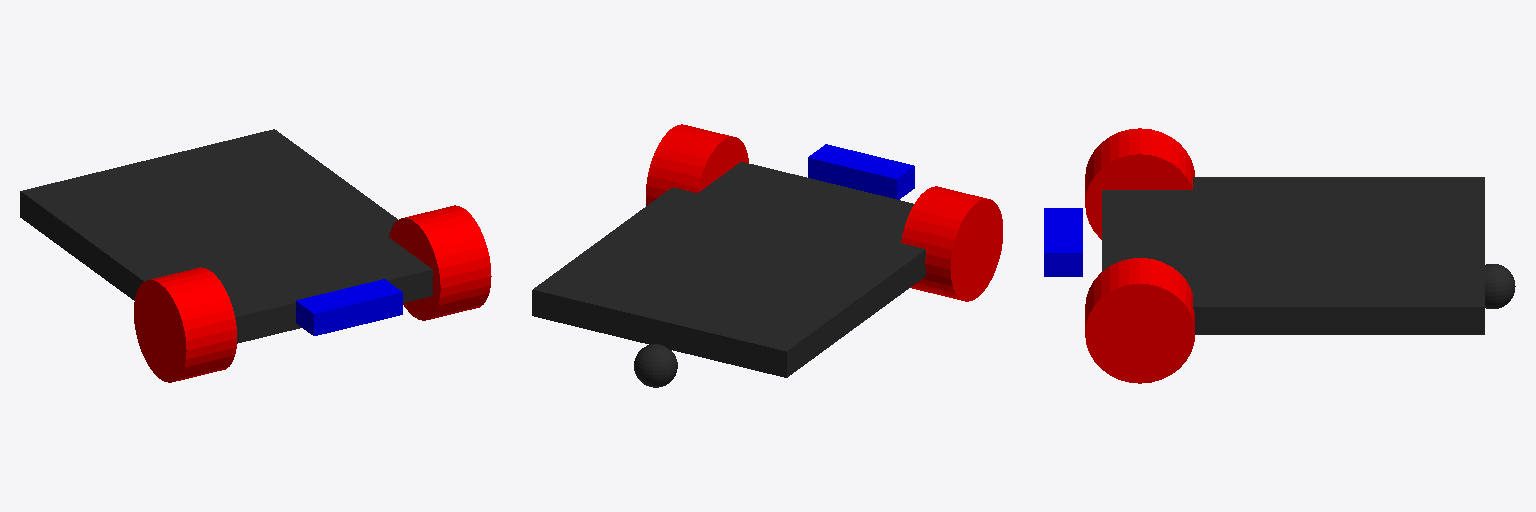
robot.urdf — wheel_robot_simple:
<robot name="wheel_robot_simple">
  <material name="grey">
    <color rgba="0.2 0.2 0.2 1.0"/>
  </material>
  <material name="red">
    <color rgba="1.0 0.0 0.0 1.0"/>
  </material>
  <material name="blue">
    <color rgba="0.0 0.0 1.0 1.0"/>
  </material> 

  <link name="base_link"/>

  <joint name="body_joint" type="fixed">
    <origin xyz="-0.3 0.0 0.2" rpy="0.0 0.0 -1.5708"/>
    <parent link="base_link"/>
    <child link="body_link"/>
  </joint>

  <link name="body_link">
    <visual>
      <geometry>
        <box size="0.25 0.2 0.02"/>
      </geometry>
      <material name="grey"/>
    </visual>
    <collision>
      <geometry>
        <box size="0.25 0.2 0.02"/>
      </geometry>
    </collision>
    <inertial>
      <mass value="1.0"/>
      <inertia ixx="0.008333333" ixy="0.0" ixz="0.0" iyy="0.014166667" iyz="0.0" izz="0.020833333"/>
    </inertial>
  </link>

  <joint name="back_ball_joint" type="fixed">
    <origin xyz="-0.13 0.0 -0.022" rpy="0.0 0.0 0.0"/>
    <parent link="body_link"/>
    <child link="back_ball_link"/>
  </joint>

  <link name="back_ball_link">
    <visual>
      <geometry>
        <sphere radius="0.015"/>
      </geometry>
      <material name="grey"/>
    </visual>
    <collision>
      <geometry>
        <sphere radius="0.015"/>
      </geometry>
    </collision>
    <inertial>
      <mass value="0.03"/>
      <inertia ixx="0.0001" ixy="0.0" ixz="0.0" iyy="0.0001" iyz="0.0" izz="0.0001"/>
    </inertial>
  </link>

  <link name="sholder_base_link">
    <visual>
      <geometry>
        <mesh filename="file://[local-path]/ros2_ws/src/arm_detecting_controll/models/maze/DAE/sholder_base.dae" scale="1 1 1"/>
      </geometry>
      <material name="grey"/>
    </visual>
    <collision>
      <geometry>
        <mesh filename="file://[local-path]/ros2_ws/src/arm_detecting_controll/models/maze/STL/sholder_base.stl" scale="1 1 1"/>
      </geometry>
    </collision>
    <inertial>
      <mass value="0.06"/>
      <inertia ixx="0.0001" ixy="0.0" ixz="0.0" iyy="0.0001" iyz="0.0" izz="0.0001"/>
    </inertial>
  </link>

  <link name="sholder_link">
    <visual>
      <geometry>
        <mesh filename="file://[local-path]/ros2_ws/src/arm_detecting_controll/models/maze/DAE/sholder_link.dae" scale="1 1 1"/>
      </geometry>
      <material name="grey"/>
    </visual>
    <collision>
      <geometry>
        <mesh filename="file://[local-path]/ros2_ws/src/arm_detecting_controll/models/maze/STL/sholder_link.stl" scale="1 1 1"/>
      </geometry>
    </collision>
    <inertial>
      <mass value="0.08"/>
      <inertia ixx="0.0001" ixy="0.0" ixz="0.0" iyy="0.0001" iyz="0.0" izz="0.0001"/>
    </inertial>
  </link>

  <link name="elbow_link">
    <visual>
      <geometry>
        <mesh filename="file://[local-path]/ros2_ws/src/arm_detecting_controll/models/maze/DAE/elbow_link.dae" scale="1 1 1"/>
      </geometry>
      <material name="grey"/>
    </visual>
    <collision>
      <geometry>
        <mesh filename="file://[local-path]/ros2_ws/src/arm_detecting_controll/models/maze/STL/elbow_link.stl" scale="1 1 1"/>
      </geometry>
    </collision>
    <inertial>
      <mass value="0.08"/>
      <inertia ixx="0.0001" ixy="0.0" ixz="0.0" iyy="0.0001" iyz="0.0" izz="0.0001"/>
    </inertial>
  </link>

  <!-- ====================== -->
  <!--        JOINTS          -->
  <!-- ====================== -->

  <joint name="sholder_joint" type="fixed">
    <origin xyz="0 0 0.01" rpy="0.0 0.0 -1.5708"/>
    <parent link="body_link"/>
    <child link="sholder_base_link"/>
  </joint>

  <joint name="sholder_arm" type="revolute">
    <origin xyz="0 0.02 0.032" rpy="0.0 0.0 0.0"/>
    <parent link="sholder_base_link"/>
    <child link="sholder_link"/>
    <axis xyz="0 0 1"/>
    <limit lower="-1.5708" upper="1.5708" effort="20.0" velocity="10"/>
    <dynamics damping="0.1"/>
  </joint>

  <joint name="elbow_arm" type="revolute">
    <origin xyz="0 0 0.065" rpy="0.0 0.0 0.0"/>
    <parent link="sholder_link"/>
    <child link="elbow_link"/>
    <axis xyz="1 0 0"/>
    <limit lower="-3.1416" upper="1.8326" effort="20.0" velocity="10"/>
    <dynamics damping="0.1"/>
  </joint>

  <joint name="left_wheel_joint" type="continuous">
    <origin xyz="0.1 0.1 -0.0" rpy="-1.5707 0.0 0.0"/>
    <parent link="body_link"/>
    <child link="left_wheel_link"/>
    <axis xyz="0.0 0.0 1.0"/>
  </joint>

  <link name="left_wheel_link">
    <visual>
      <geometry>
        <cylinder radius="0.036" length="0.04"/>
      </geometry>
      <material name="red"/>
    </visual>
    <collision>
      <geometry>
        <cylinder radius="0.036" length="0.04"/>
      </geometry>
    </collision>
    <inertial>
      <mass value="0.2"/>
      <inertia ixx="0.000285867" ixy="0.0" ixz="0.0" iyy="0.000285867" iyz="0.0" izz="0.0005184"/>
    </inertial>
  </link>

  <joint name="right_wheel_joint" type="continuous">
    <origin xyz="0.1 -0.1 -0.0" rpy="1.5707 0.0 0.0"/>
    <parent link="body_link"/>
    <child link="right_wheel_link"/>
    <axis xyz="0.0 0.0 -1.0"/>
  </joint>

  <link name="right_wheel_link">
    <visual>
      <geometry>
        <cylinder radius="0.036" length="0.04"/>
      </geometry>
      <material name="red"/>
    </visual>
    <collision>
      <geometry>
        <cylinder radius="0.036" length="0.04"/>
      </geometry>
    </collision>
    <inertial>
      <mass value="0.2"/>
      <inertia ixx="0.000285867" ixy="0.0" ixz="0.0" iyy="0.000285867" iyz="0.0" izz="0.0005184"/>
    </inertial>
  </link>
  <gazebo>
    <plugin name="diff_drive" filename="libgazebo_ros_diff_drive.so ">
      <ros>
        <namespace>/wheel_robot_simple</namespace>
        <remapping>cmd_vel:=cmd_vel</remapping>
        <remapping>odom:=odom</remapping>
      </ros>
      <left_joint>left_wheel_joint</left_joint>
      <right_joint>right_wheel_joint</right_joint>
      <wheel_separation>0.2</wheel_separation>
      <wheel_diameter>0.072</wheel_diameter>
      <max_wheel_torque>20</max_wheel_torque>
      <max_wheel_acceleration>1.0</max_wheel_acceleration>
      <publish_odom>true</publish_odom>
      <publish_odom_tf>true</publish_odom_tf>
      <publish_wheel_tf>true</publish_wheel_tf>
      <update_rate>30</update_rate>
      <odometry_frame>odom</odometry_frame>
      <robot_base_frame>base_link</robot_base_frame>
    </plugin>
  </gazebo>

  <!-- ここからカメラ追加 -->

  <joint name="camera_joint" type="fixed">
    <origin xyz="0.15 0 0.01" rpy="0 0 0"/>
    <parent link="body_link"/>
    <child link="camera_link"/>
  </joint>

  <link name="camera_link">
    <visual>
      <geometry>
        <box size="0.025 0.07 0.017"/>
      </geometry>
      <material name="blue"/>
    </visual>
    <collision>
      <geometry>
        <box size="0.025 0.07 0.017"/>
      </geometry>
    </collision>
    <inertial>
      <mass value="0.1"/>
      <inertia ixx="0.0001" ixy="0.0" ixz="0.0" iyy="0.0001" iyz="0.0" izz="0.0001"/>
    </inertial>
  </link>
  <gazebo>
    <plugin filename="libgazebo_ros2_control.so" name="gazebo_ros2_control">
      <robot_sim_type>gazebo_ros2_control/GazeboSystem</robot_sim_type>
      <parameters>[local-path]/ros2_ws/src/arm_detecting_controll/config/rdc_arm.yaml</parameters>
    </plugin>
  </gazebo>

  <ros2_control name="GazeboSystem" type="system">
    <hardware>
      <plugin>gazebo_ros2_control/GazeboSystem</plugin>
    </hardware>
    <joint name="sholder_arm">
      <command_interface name="position">
        <param name="min">-3.14</param>
        <param name="max">3.14</param>
      </command_interface>
      <command_interface name="velocity">
        <param name="min">-3.15</param>
        <param name="max">3.15</param>
      </command_interface>
      <state_interface name="position"/>
      <state_interface name="velocity"/>
      <state_interface name="effort"/>
      <param name="initial_position">0.0</param>   
    </joint>
    <joint name="elbow_arm">
      <command_interface name="position">
        <param name="min">-3.14</param>
        <param name="max">3.14</param>
      </command_interface>
      <command_interface name="velocity">
        <param name="min">-3.15</param>
        <param name="max">3.15</param>
      </command_interface>
      <state_interface name="position"/>
      <state_interface name="velocity"/>
      <state_interface name="effort"/>
      <param name="initial_position">0.0</param>   
    </joint>
  </ros2_control>

  <gazebo reference="camera_link">
    <sensor name="camera_sensor" type="camera">
      <always_on>true</always_on>
      <update_rate>30.0</update_rate>
      <visualize>true</visualize>
      <camera>
        <horizontal_fov>1.39626</horizontal_fov>
        <image>
          <width>640</width>
          <height>480</height>
          <format>R8G8B8</format>
        </image>
        <clip>
          <near>0.1</near>
          <far>100</far>
        </clip>
      </camera>
      <plugin name="camera_controller" filename="libgazebo_ros_camera.so">
        <ros>
          <namespace>/wheel_robot_simple</namespace>
        </ros>
        <camera_name>camera</camera_name>
        <image_topic_name>image_raw</image_topic_name>
        <camera_info_topic_name>camera_info</camera_info_topic_name>
        <frame_name>camera_link</frame_name>
      </plugin>
    </sensor>
  </gazebo>
  <gazebo>
    <plugin name="link_attacher_plugin" filename="libgazebo_ros2_link_attacher_plugin.so"/>
  </gazebo>

</robot>

--- What the picture shows (computed from the rendered views, not written in the file) ---
The picture shows the robot from 3 angles, left to right: view 1: azimuth 30°, elevation 25°; view 2: azimuth 150°, elevation 25°; view 3: azimuth 270°, elevation 25°; orthographic projection.
Robot: wheel_robot_simple — 9 links, 8 joints (2 revolute, 2 continuous, 4 fixed); root link base_link; default pose: every joint at zero.
Visible links, largest first — view 1: body_link, right_wheel_link, left_wheel_link, camera_link; view 2: body_link, right_wheel_link, left_wheel_link, camera_link, back_ball_link; view 3: body_link, left_wheel_link, right_wheel_link, camera_link, back_ball_link.
Boxes of the visible links, <box> form: body_link: <box>20,129,432,343</box>; right_wheel_link: <box>134,267,236,382</box>; left_wheel_link: <box>389,205,491,320</box>; camera_link: <box>296,279,402,335</box>; body_link: <box>532,162,925,377</box>; right_wheel_link: <box>901,186,1002,301</box>; left_wheel_link: <box>646,124,748,205</box>; camera_link: <box>808,144,914,199</box>; back_ball_link: <box>634,344,677,387</box>; body_link: <box>1102,177,1484,334</box>; left_wheel_link: <box>1085,258,1194,383</box>; right_wheel_link: <box>1085,128,1194,239</box>; camera_link: <box>1044,208,1082,276</box>; back_ball_link: <box>1485,264,1515,308</box>.
Bounding box of the posed robot: 0.24 × 0.3075 × 0.073 m (x, y, z).
Geometry: only primitive shapes (box / cylinder / sphere) drawn; not drawn: 3 mesh visuals (reference in a form the renderer does not follow).
